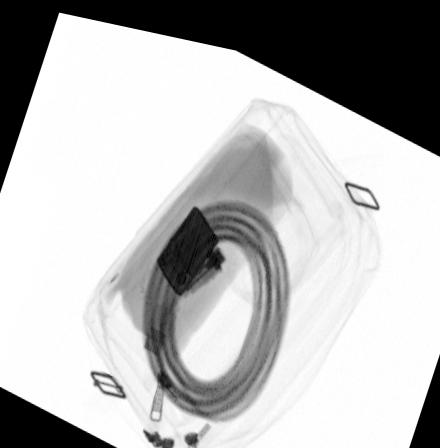Lighter: (155, 197, 219, 287)
